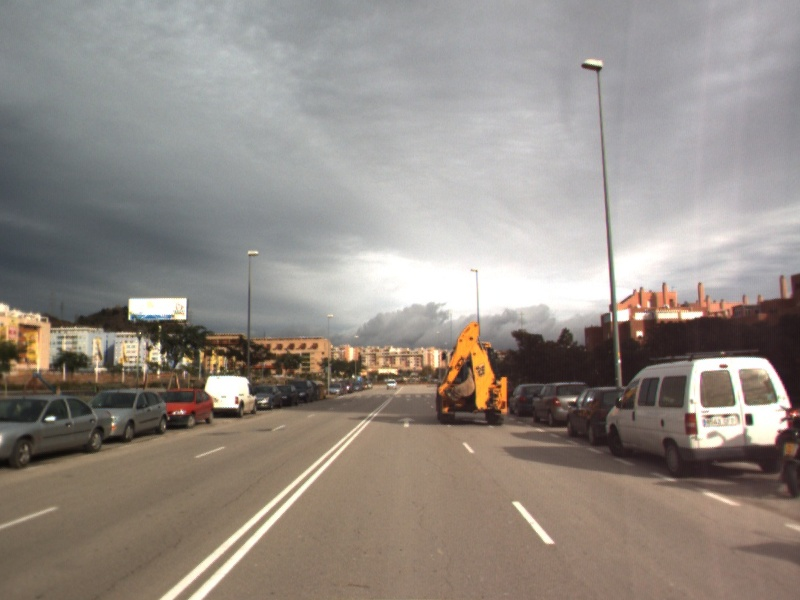STRAIGHT: (396, 415, 417, 429)
